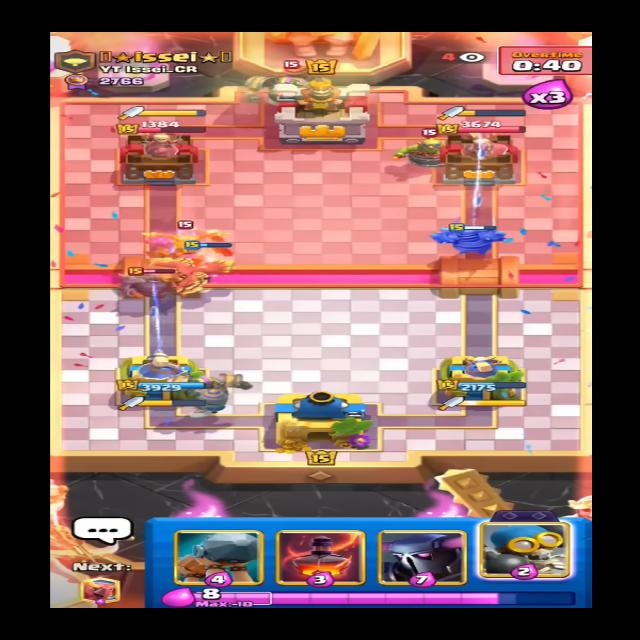goblin-demolisher: (384, 126, 457, 173)
goblin-machine: (237, 59, 337, 112)
pekka: (107, 260, 192, 300)
phoenix: (140, 214, 248, 250)
